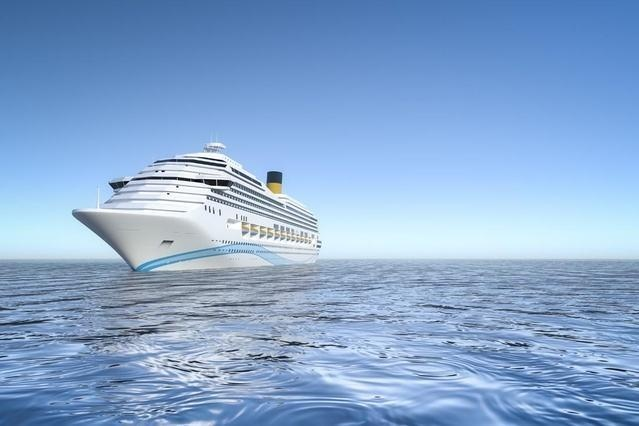youlun: (69, 140, 318, 273)
